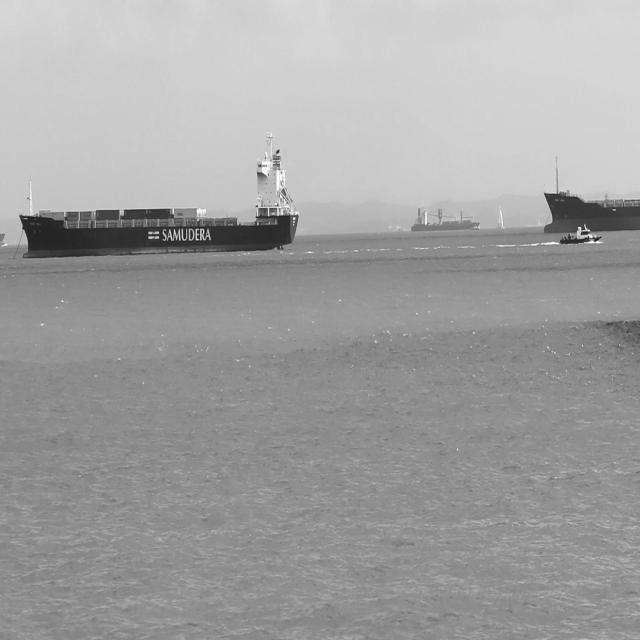ship: (18, 129, 300, 259), (544, 158, 640, 234), (410, 206, 480, 232), (559, 224, 602, 247), (496, 203, 504, 230), (470, 224, 480, 232)
